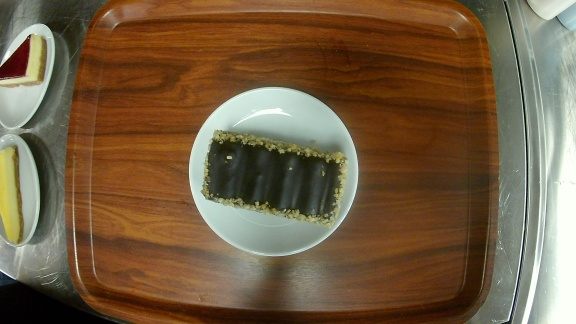muzlupasta: (188, 87, 359, 256)
